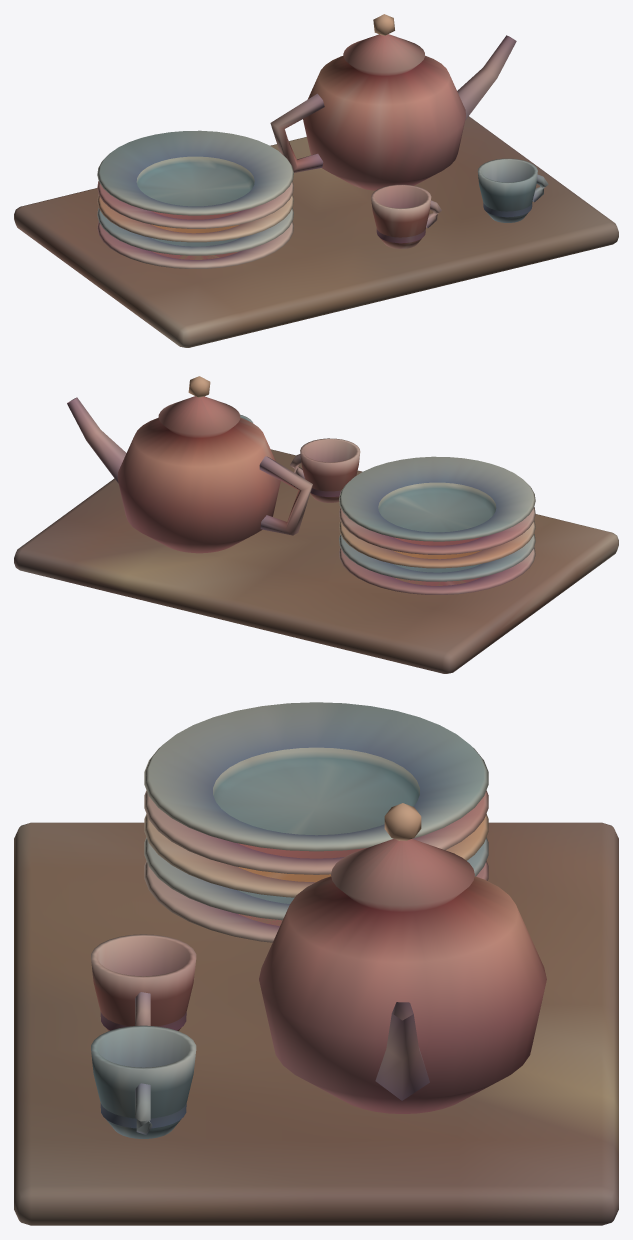
File: tabak_seti.glb
3 views of the same model, one above another, from view 1: azimuth 30°, elevation 25°; view 2: azimuth 150°, elevation 25°; view 3: azimuth 270°, elevation 25° (orthographic). The views are drawn at different scales.
Parts seen in each view (by area): view 1: tabak_seti_LOD0; view 2: tabak_seti_LOD0; view 3: tabak_seti_LOD0.
Part boxes in pixels (x1,y1,x2,y2): tabak_seti_LOD0: [14, 14, 618, 347]; tabak_seti_LOD0: [14, 376, 618, 673]; tabak_seti_LOD0: [14, 702, 618, 1225].
Size of what is drawn, in the model's own units: 0.6264 by 0.245 by 0.42.
